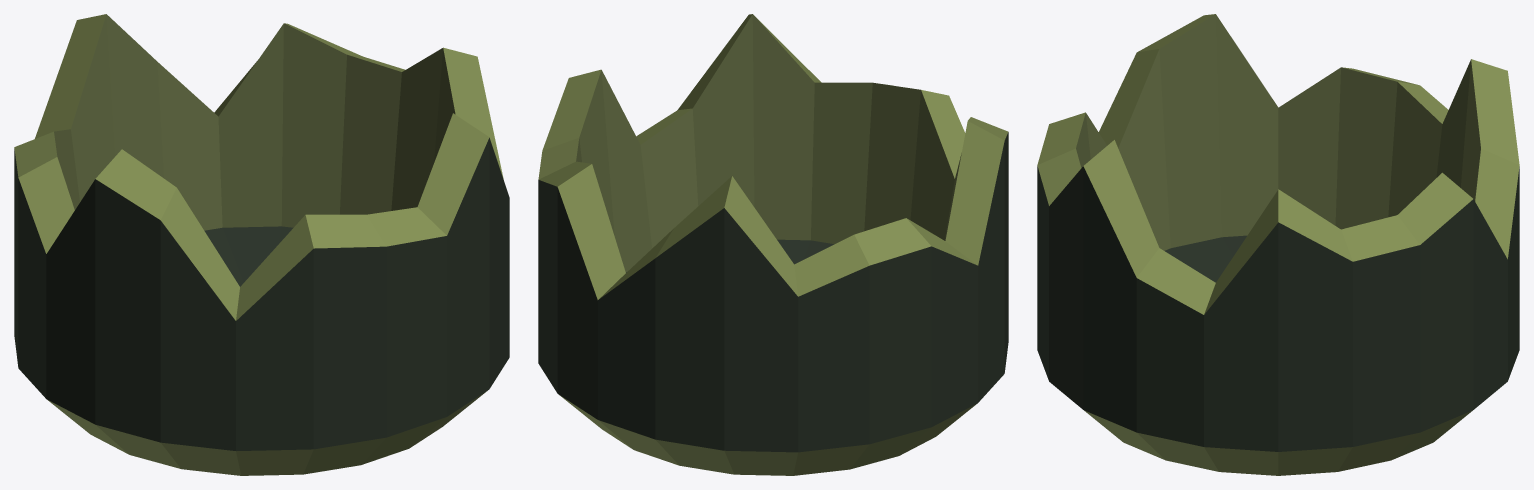
Rendered from wine_bottle_piece_heel.glb.
The picture shows the model from 3 angles, left to right: view 1: azimuth 30°, elevation 25°; view 2: azimuth 150°, elevation 25°; view 3: azimuth 270°, elevation 25°; orthographic projection. The views are drawn at different scales.
Parts seen in each view (by area): view 1: Jagged heavy heel and bottom.002; view 2: Jagged heavy heel and bottom.002; view 3: Jagged heavy heel and bottom.002.
Part boxes in pixels (x1,y1,x2,y2): Jagged heavy heel and bottom.002: [14, 14, 509, 475]; Jagged heavy heel and bottom.002: [538, 14, 1008, 475]; Jagged heavy heel and bottom.002: [1037, 14, 1519, 475].
Size of the model in its own units: 0.078 by 0.0552 by 0.078.
